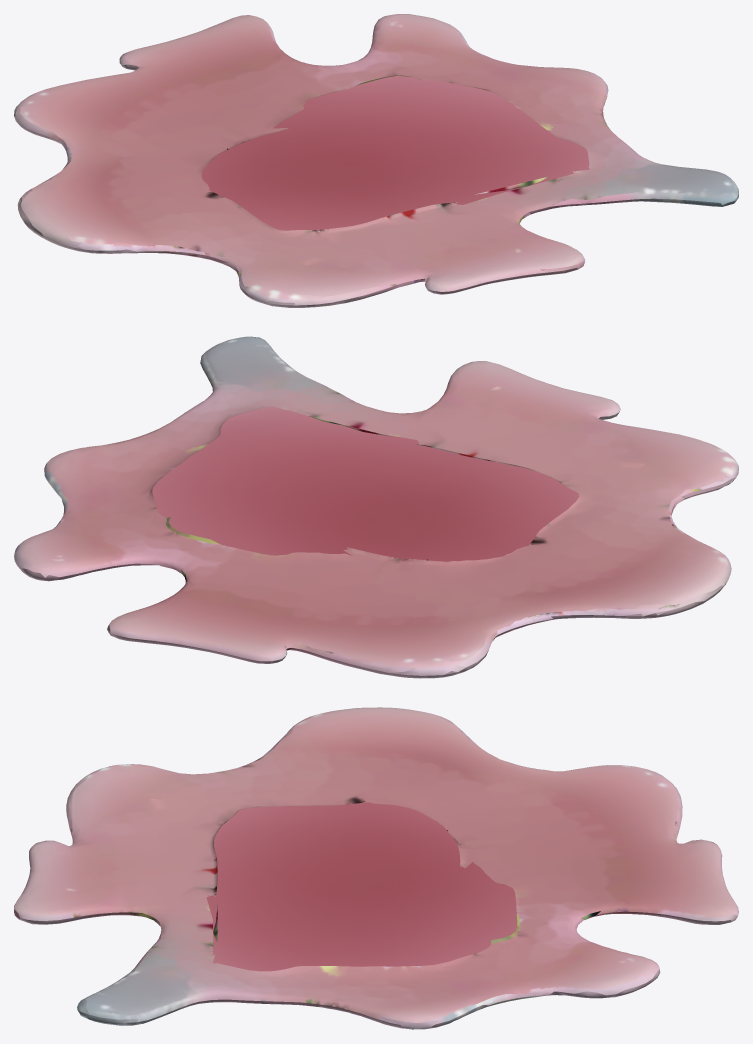
The model's file is enemy_cake_roof.fbx.
3 renders of one model, top to bottom at view 1: azimuth 30°, elevation 25°; view 2: azimuth 150°, elevation 25°; view 3: azimuth 270°, elevation 25°, orthographic. The views are drawn at different scales.
Visible parts, largest first — view 1: tmpc24ce_z0.ply.003; view 2: tmpc24ce_z0.ply.003; view 3: tmpc24ce_z0.ply.003.
Boxes of the visible parts, x1,y1,x2,y2 form: tmpc24ce_z0.ply.003: (14, 14, 738, 307); tmpc24ce_z0.ply.003: (14, 336, 738, 678); tmpc24ce_z0.ply.003: (14, 707, 738, 1029).
Size of the model in its own units: 199 by 7.55 by 199.
